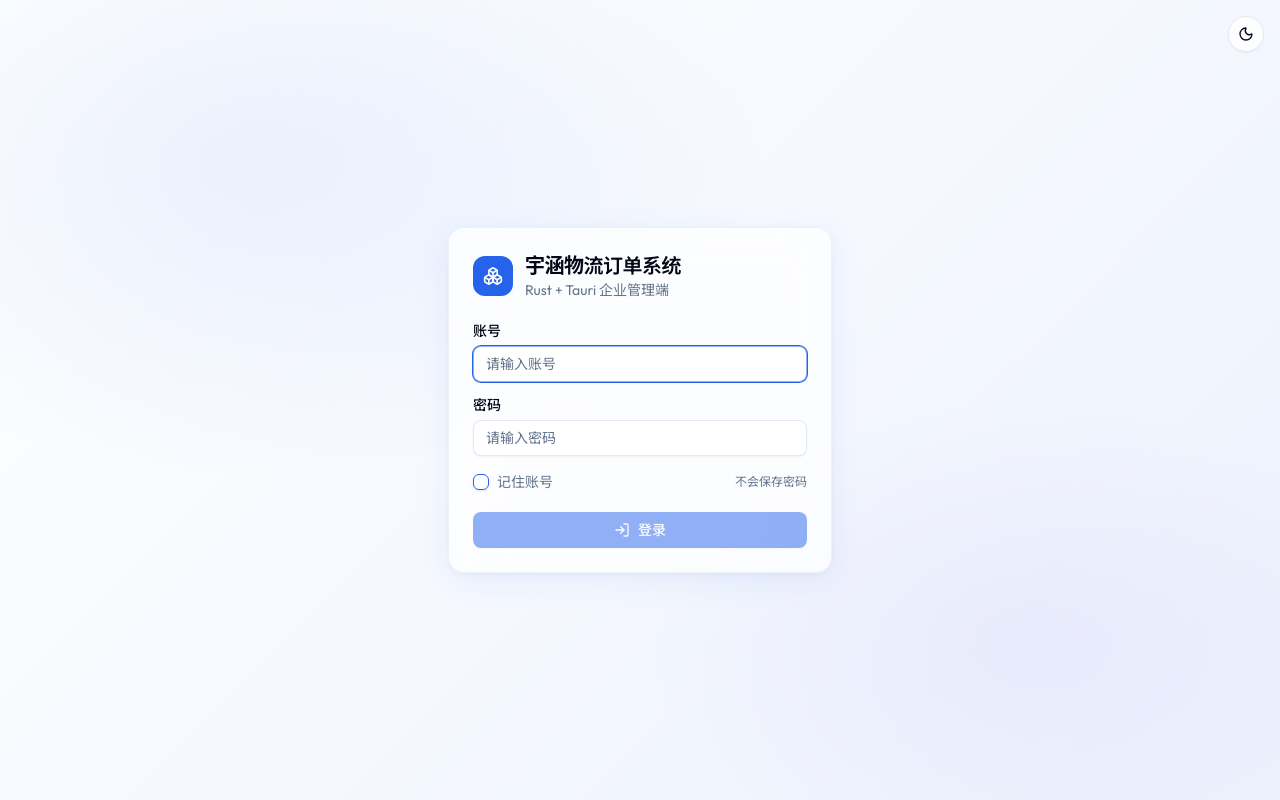
Test: Login › keeps the login button disabled while submit is pending
Type "admin" into the field labelled "账号" at (640, 364), box [473, 346, 807, 382]
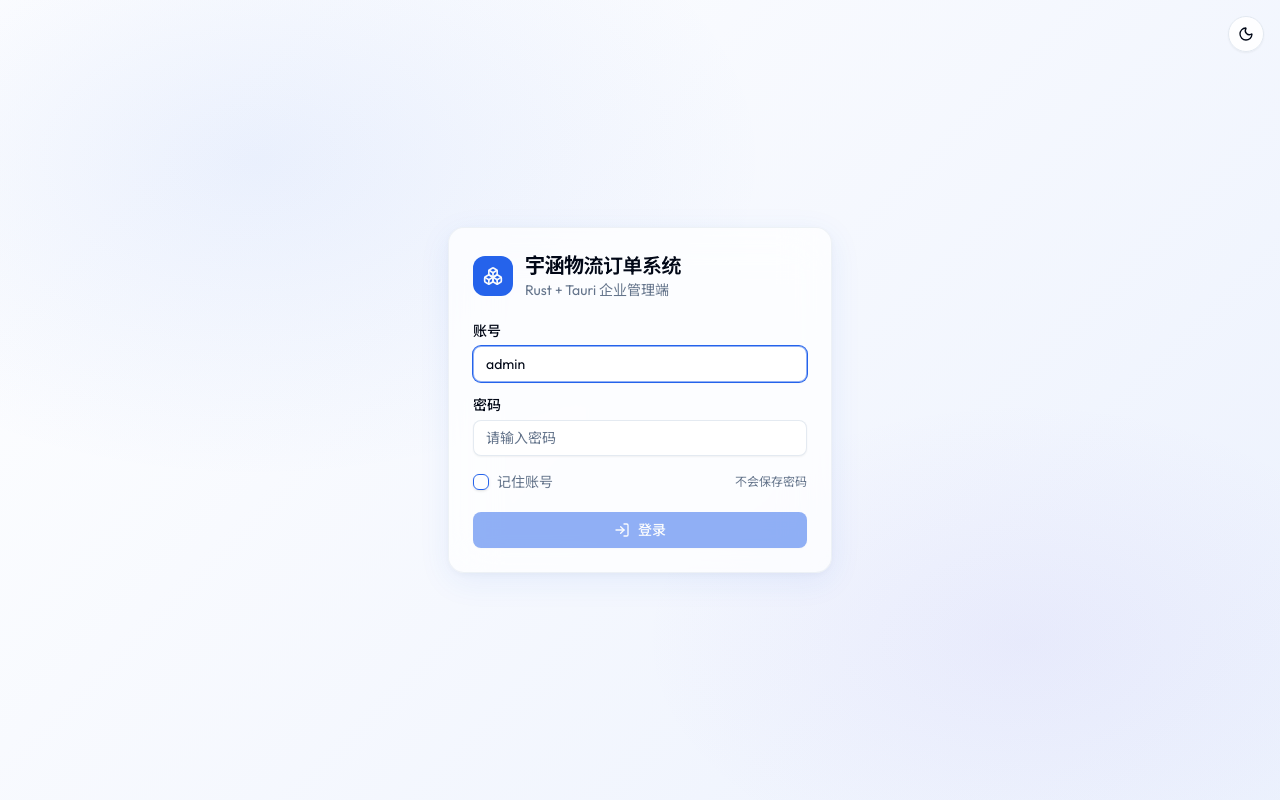
Type "secret" into the password field labelled "密码" at (640, 438), box [473, 420, 807, 456]
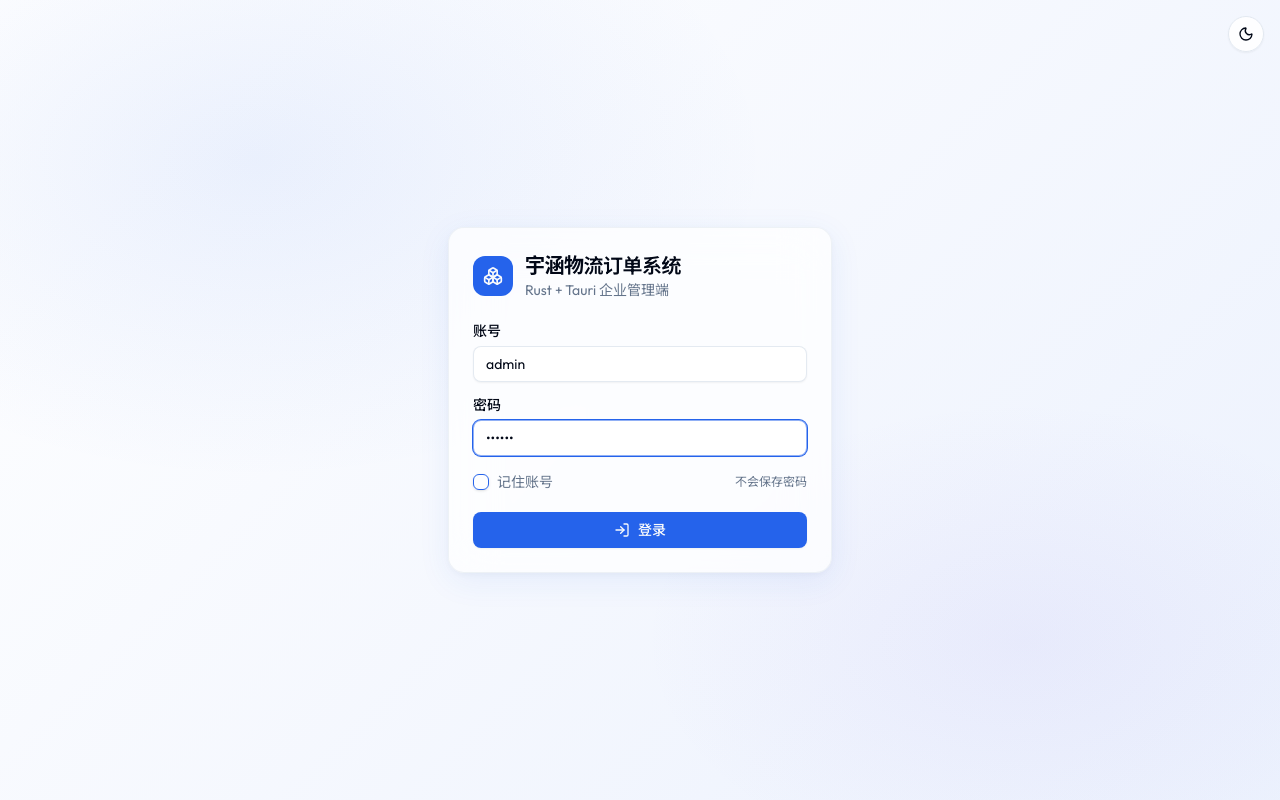
Click the button "登录" at (640, 530), box [473, 512, 807, 548]
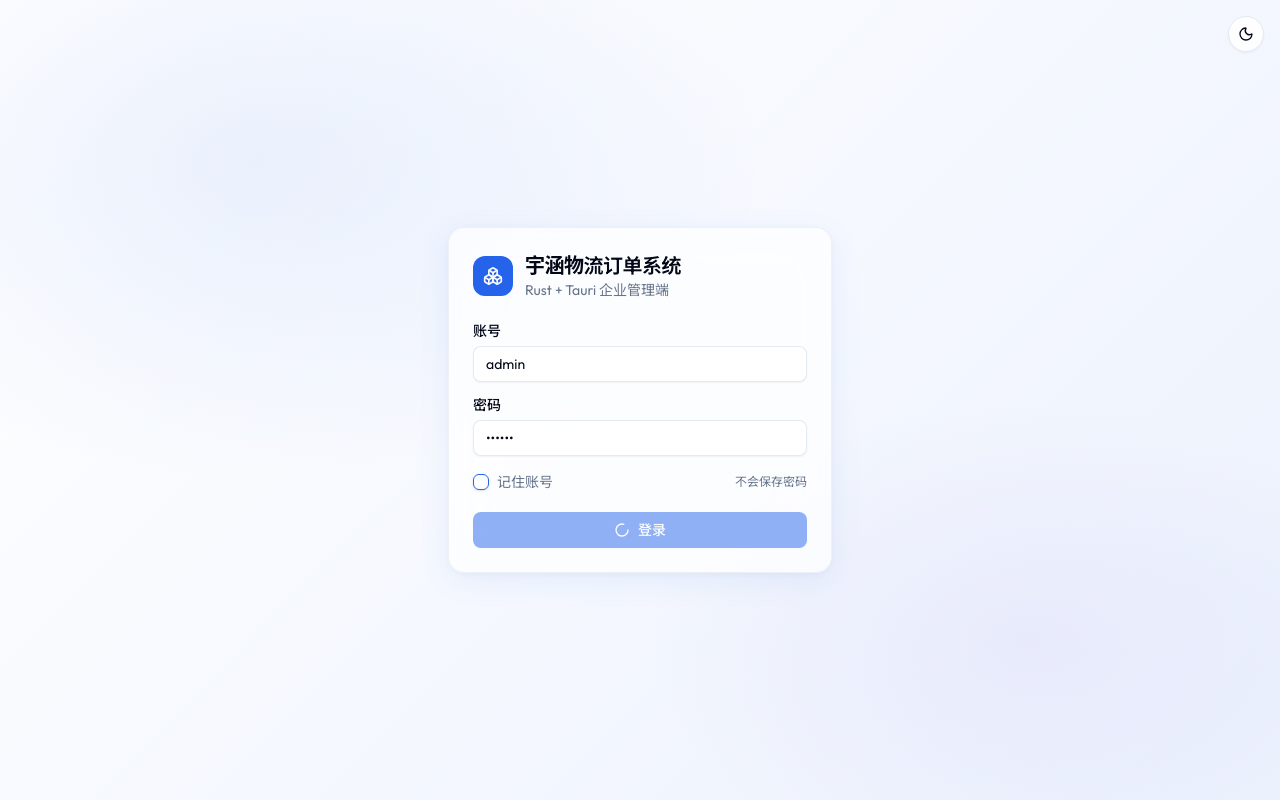
Expected: the button "登录" is disabled, [473, 512, 807, 548]
